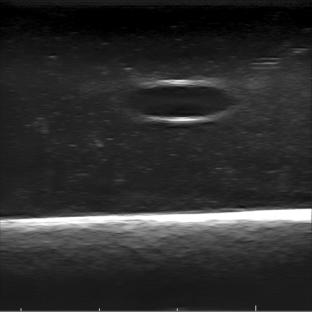vessel: (126, 79, 236, 123)
